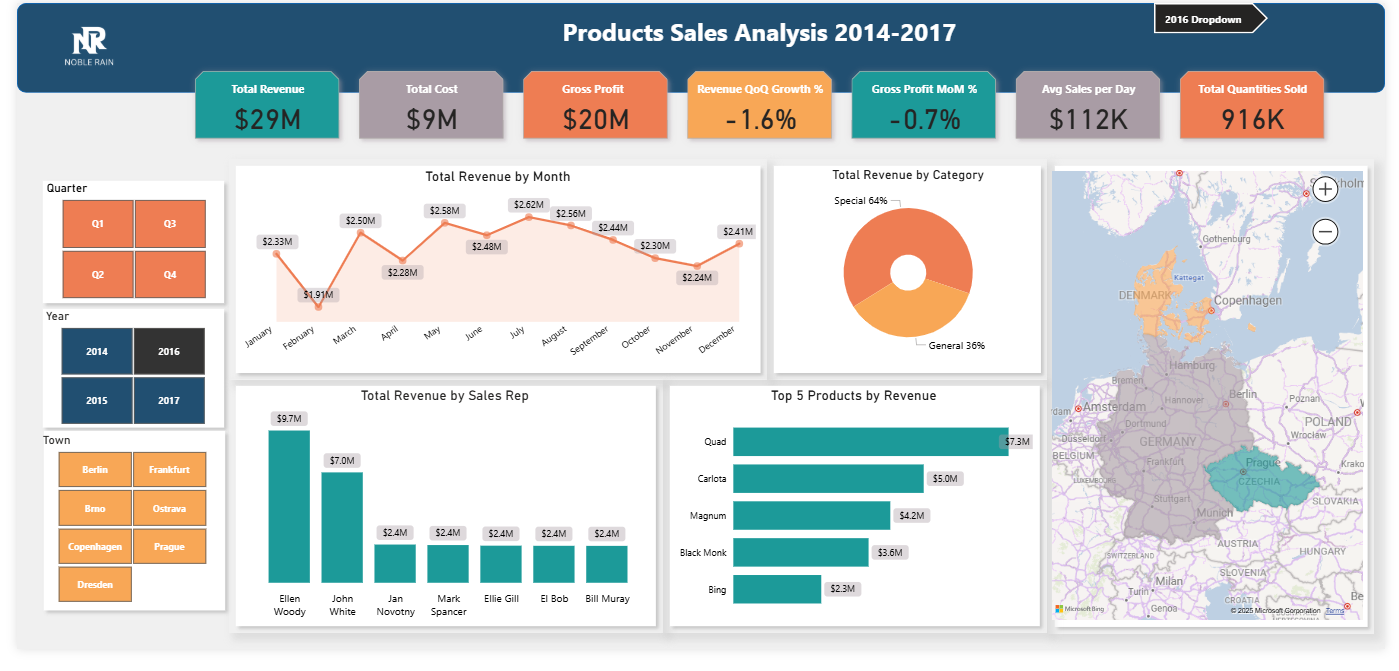

The dashboard page shown, as its layout file describes it:
{"tool":"powerbi","page":{"name":"Overview","canvas":[1800,850],"ordinal":0},"visuals":[{"type":"shape","box":[0,0,1800,118],"z":0},{"type":"cardVisual","fields":{"Data":["Dax.Total Revenue","Dax.Total Cost","Dax.Gross Profit","Dax.Revenue QoQ Growth %","Dax.Gross Profit MoM %","Dax.Avg Sales per Day","Dax.Total Quantities Sold"]},"box":[216.5,71.8,1521.2,123.5],"z":1000},{"type":"textbox","box":[708.1,11.2,537.9,60.9],"z":2000},{"type":"image","box":[0,0,189.4,117.6],"z":3000},{"type":"shape","box":[24.7,224.7,256.5,178.8],"z":4000},{"type":"shape","box":[24.7,392.9,256.5,174.1],"z":5000},{"type":"shape","box":[25.9,554.1,256.5,254.1],"z":6000},{"type":"shape","box":[278.8,204.7,708.2,290.6],"z":7000},{"type":"shape","box":[278.8,495.3,570.6,334.1],"z":8000},{"type":"shape","box":[987.1,204.7,369.4,290.6],"z":9000},{"type":"shape","box":[1356.5,204.7,429.4,624.7],"z":10000},{"type":"lineChart","title":"Total Revenue by Month","fields":{"Category":["Calendar.Month_Name"],"Y":["Dax.Total Revenue"]},"box":[288.2,217.6,689.4,269.4],"z":11000},{"type":"slicer","title":"Quarter","fields":{"Values":["Calendar.Quarter"]},"box":[34.1,234.1,237.6,161.2],"z":12000},{"type":"slicer","title":"Year","fields":{"Values":["Calendar.Year"]},"box":[32.9,402.4,237.6,157.6],"z":13000},{"type":"shape","box":[849.4,495.3,504.7,334.1],"z":14000},{"type":"clusteredBarChart","title":"Top 5 Products by Revenue","fields":{"Y":["Dax.Total Revenue"],"Category":["Product.ProductName"]},"box":[861.2,505.9,481.2,310.6],"z":15000},{"type":"filledMap","fields":{"Category":["Geography.Country"]},"box":[1356.5,215.3,420,601.2],"z":16000},{"type":"clusteredColumnChart","title":"Total Revenue by Sales Rep","fields":{"Category":["Sales rep.Sales Rep Name"],"Y":["Dax.Total Revenue"]},"box":[288.2,505.9,549.4,310.6],"z":17000},{"type":"donutChart","fields":{"Y":["Dax.Total Revenue"],"Category":["Product.Category"]},"box":[1002.4,215.3,340,260],"z":18000},{"type":"slicer","title":"Town","fields":{"Values":["Geography.Town"]},"box":[29.4,565.9,243.5,229.4],"z":19000},{"type":"bookmarkNavigator","box":[1495.7,0,150.3,41],"z":19001}]}

Visuals, with their boxes in screenshot pixels (x1, y1, x2, y2), scaled from the page's 1800x850 canvas onto the 1399x671 screenshot:
shape: bbox(0, 0, 1398, 93)
cardVisual - Dax.Total Revenue x Dax.Total Cost: bbox(168, 57, 1351, 154)
textbox: bbox(550, 9, 968, 57)
image: bbox(0, 0, 147, 93)
shape: bbox(19, 177, 219, 319)
shape: bbox(19, 310, 219, 448)
shape: bbox(20, 437, 219, 638)
shape: bbox(217, 162, 767, 391)
shape: bbox(217, 391, 660, 655)
shape: bbox(767, 162, 1054, 391)
shape: bbox(1054, 162, 1388, 655)
"Total Revenue by Month" lineChart: bbox(224, 172, 760, 384)
"Quarter" slicer: bbox(27, 185, 211, 312)
"Year" slicer: bbox(26, 318, 210, 442)
shape: bbox(660, 391, 1052, 655)
"Top 5 Products by Revenue" clusteredBarChart: bbox(669, 399, 1043, 645)
filledMap - Geography.Country: bbox(1054, 170, 1381, 645)
"Total Revenue by Sales Rep" clusteredColumnChart: bbox(224, 399, 651, 645)
donutChart - Dax.Total Revenue x Product.Category: bbox(779, 170, 1043, 375)
"Town" slicer: bbox(23, 447, 212, 628)
bookmarkNavigator: bbox(1162, 0, 1279, 32)
